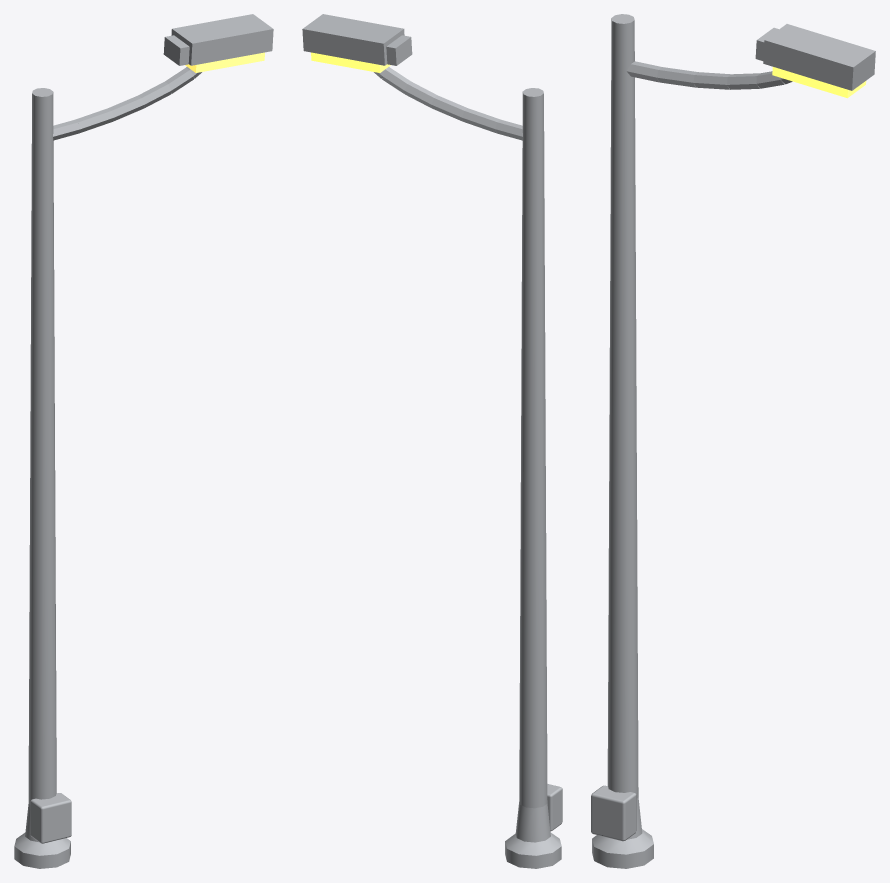
The model's file is lamp.glb.
3 views of the same model, side by side, from view 1: azimuth 30°, elevation 25°; view 2: azimuth 150°, elevation 25°; view 3: azimuth 330°, elevation 25° (orthographic). The views are drawn at different scales.
Visible parts, largest first — view 1: sodium-street-light; view 2: sodium-street-light; view 3: sodium-street-light.
Boxes of the visible parts, x1,y1,x2,y2 form: sodium-street-light: (14,14,273,868); sodium-street-light: (302,14,562,868); sodium-street-light: (591,14,875,868).
Size of the model in its own units: 2.34 by 7.2 by 0.4801.
